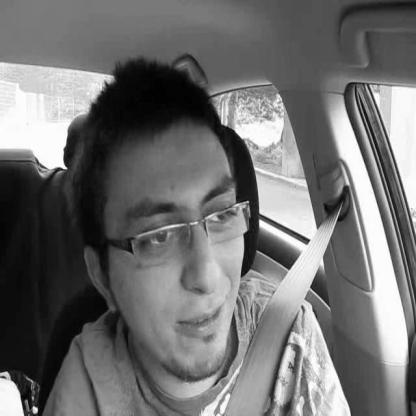seatbelt: (63, 46, 323, 416)
